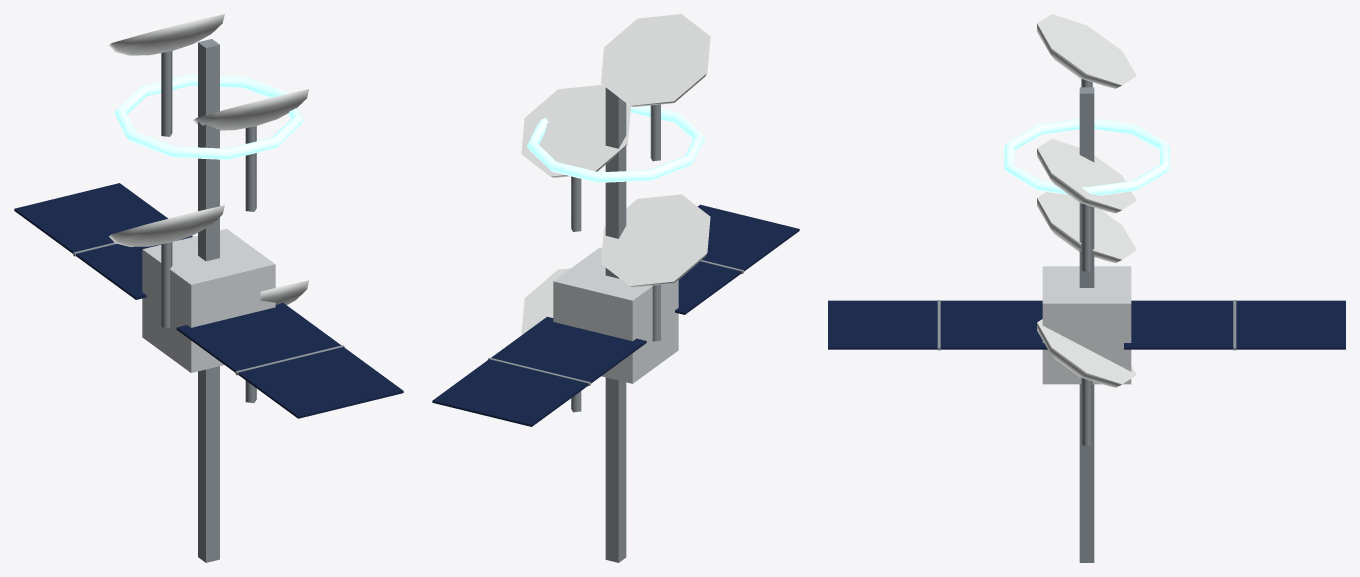
The model's file is space_orbital_relay_t2_lod1.glb.
3 renders of one model, left to right at view 1: azimuth 30°, elevation 25°; view 2: azimuth 150°, elevation 25°; view 3: azimuth 270°, elevation 25°, orthographic. The views are drawn at different scales.
Visible parts, largest first — view 1: body, solar_0, solar_1, antenna_3, antenna_1, antenna_2, antenna_0; view 2: body, solar_1, antenna_3, antenna_1, antenna_2, solar_0, antenna_0; view 3: body, solar_1, solar_0, antenna_2, antenna_3, antenna_1, antenna_0.
Part boxes in pixels (left/top/right/bottom): body: left=114, top=39, right=303, bottom=562; solar_0: left=176, top=302, right=403, bottom=418; solar_1: left=14, top=183, right=192, bottom=299; antenna_3: left=109, top=14, right=224, bottom=136; antenna_1: left=109, top=205, right=224, bottom=328; antenna_2: left=193, top=89, right=309, bottom=211; antenna_0: left=245, top=280, right=308, bottom=403; body: left=526, top=87, right=705, bottom=562; solar_1: left=432, top=316, right=646, bottom=426; antenna_3: left=601, top=14, right=710, bottom=161; antenna_1: left=601, top=194, right=710, bottom=341; antenna_2: left=521, top=84, right=630, bottom=231; solar_0: left=675, top=204, right=799, bottom=314; antenna_0: left=521, top=268, right=581, bottom=412; body: left=1004, top=87, right=1169, bottom=562; solar_1: left=1124, top=300, right=1345, bottom=350; solar_0: left=828, top=300, right=1047, bottom=350; antenna_2: left=1037, top=138, right=1136, bottom=272; antenna_3: left=1037, top=14, right=1136, bottom=88; antenna_1: left=1037, top=192, right=1136, bottom=262; antenna_0: left=1037, top=319, right=1136, bottom=446.
Bounding box in the file's own units: 5.52 × 15.44 × 14.
